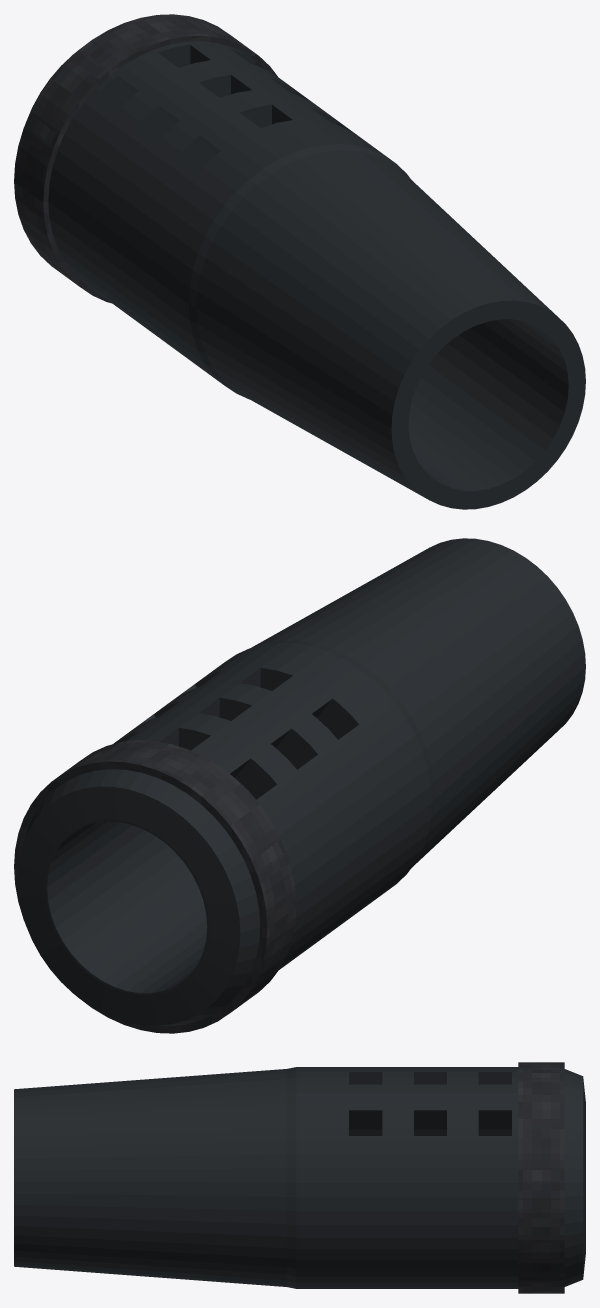
The model's file is choke_estendido_12.glb.
The picture shows the model from 3 angles, top to bottom: view 1: azimuth 30°, elevation 25°; view 2: azimuth 150°, elevation 25°; view 3: azimuth 270°, elevation 25°; orthographic projection. The views are drawn at different scales.
Parts seen in each view (by area): view 1: choke_estendido_12_aco_oxidado, choke_estendido_12_recartilhado; view 2: choke_estendido_12_aco_oxidado, choke_estendido_12_recartilhado; view 3: choke_estendido_12_aco_oxidado, choke_estendido_12_recartilhado.
Boxes of the visible parts, box(x1,y1,x2,y2) form: choke_estendido_12_aco_oxidado: box(27, 41, 585, 509); choke_estendido_12_recartilhado: box(14, 14, 277, 303); choke_estendido_12_aco_oxidado: box(17, 538, 585, 1025); choke_estendido_12_recartilhado: box(14, 740, 296, 1033); choke_estendido_12_aco_oxidado: box(14, 1067, 585, 1288); choke_estendido_12_recartilhado: box(518, 1062, 564, 1293).
Bounding box in the file's own units: 0.025 × 0.025 × 0.0618.
Materials: 2 (1 with a texture image).
